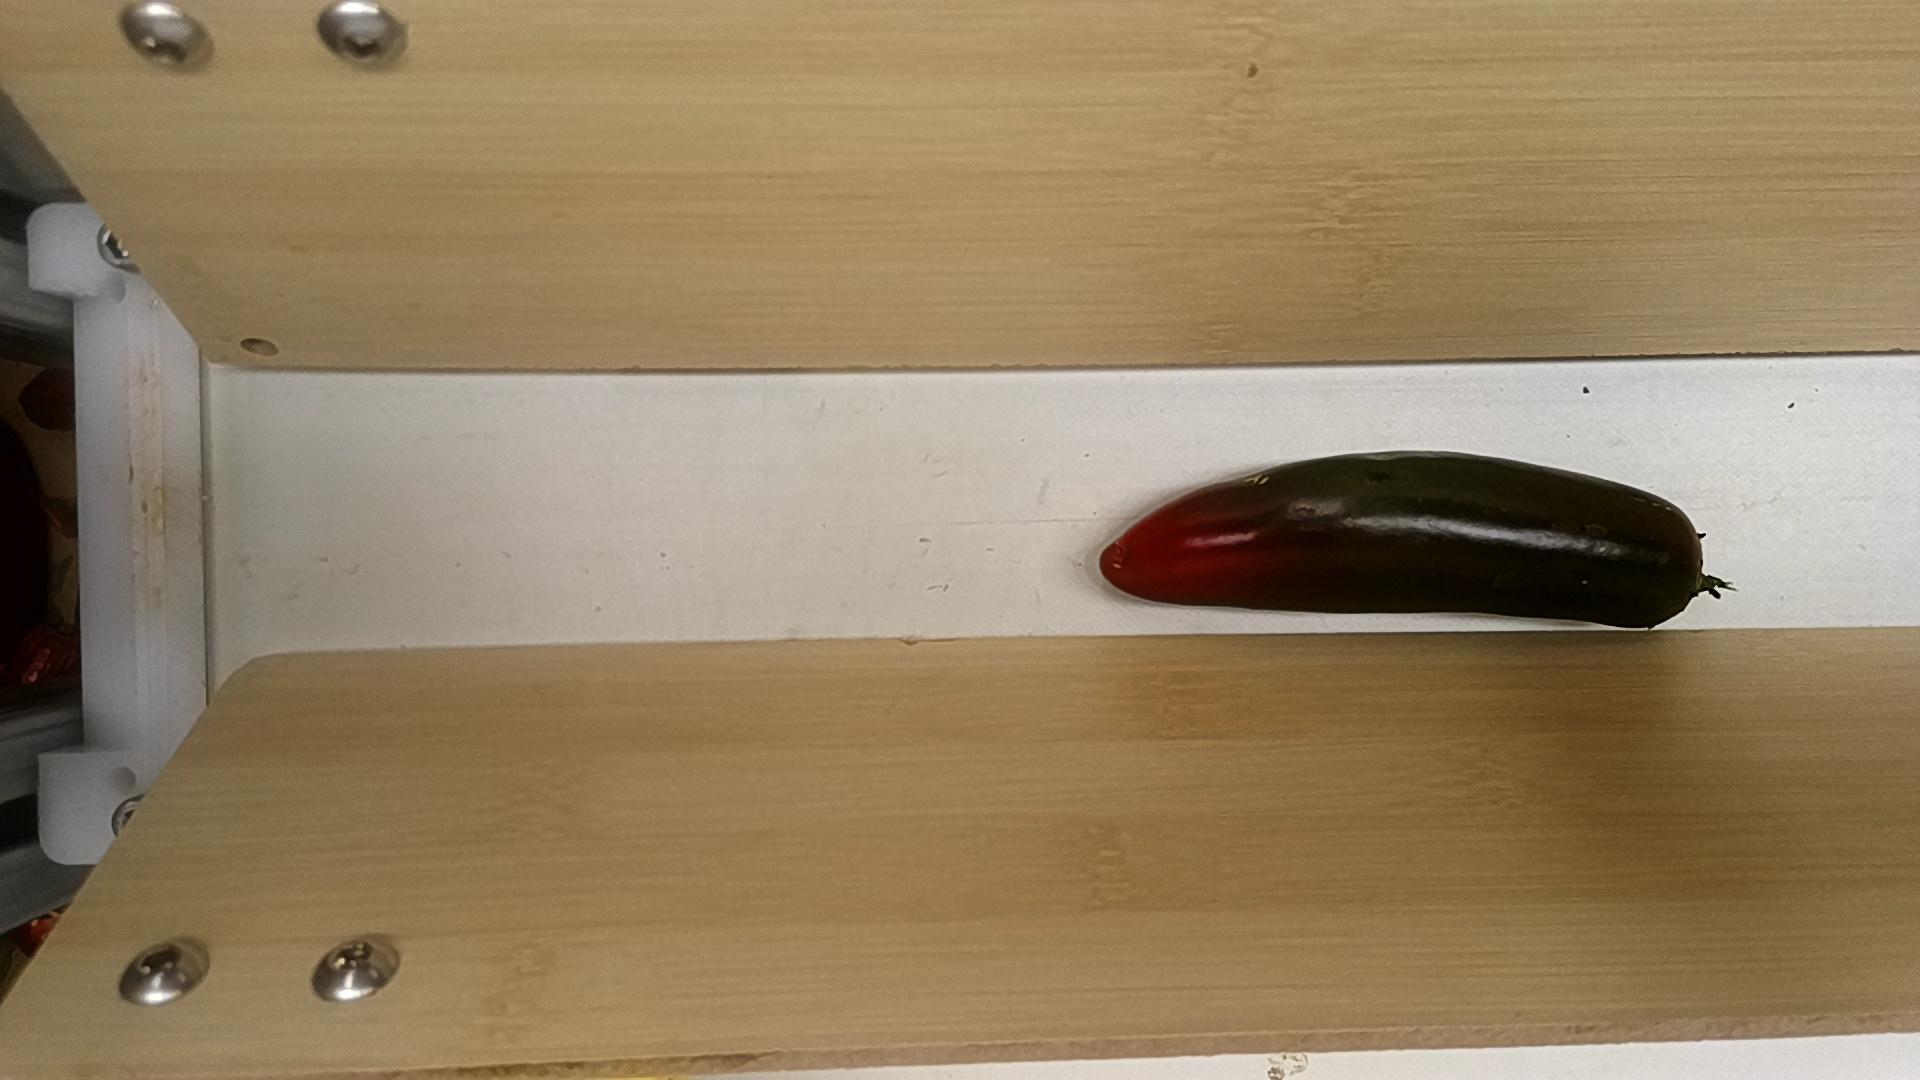Cut Point: (1635, 484, 1727, 641)
